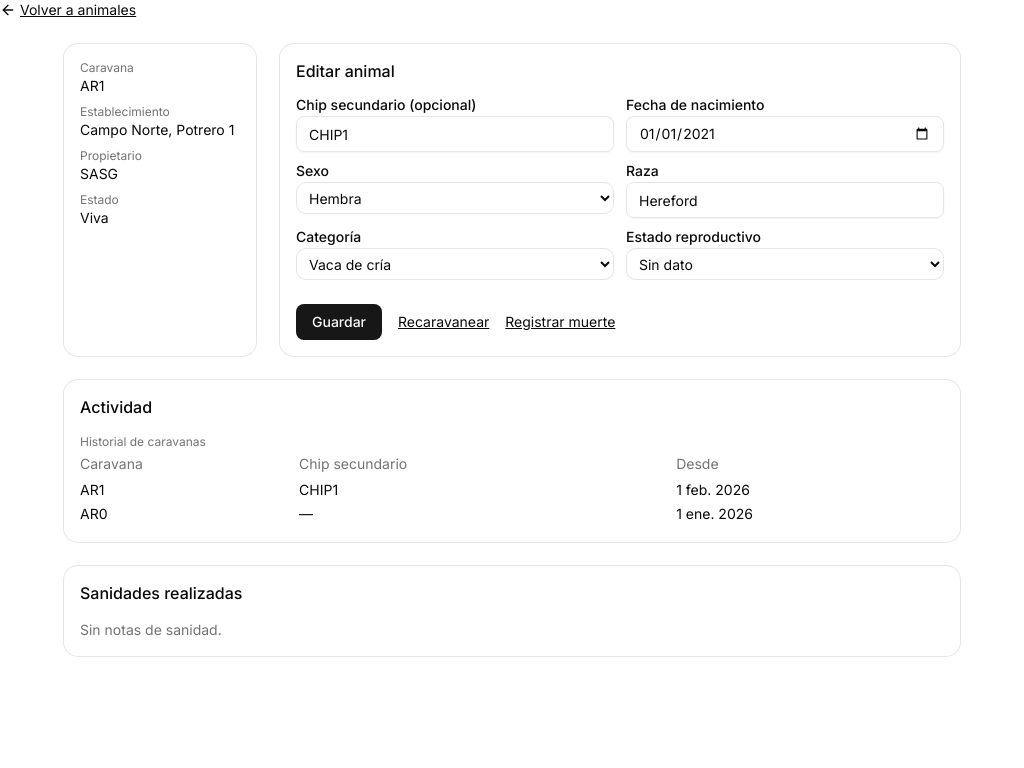
Test case: AnimalDetail › shows the server error when saving fails
What coordinates should you click on to do the following:
click the button "Guardar"
I would click on:
 (339, 322)
Its box is [296, 304, 382, 340].
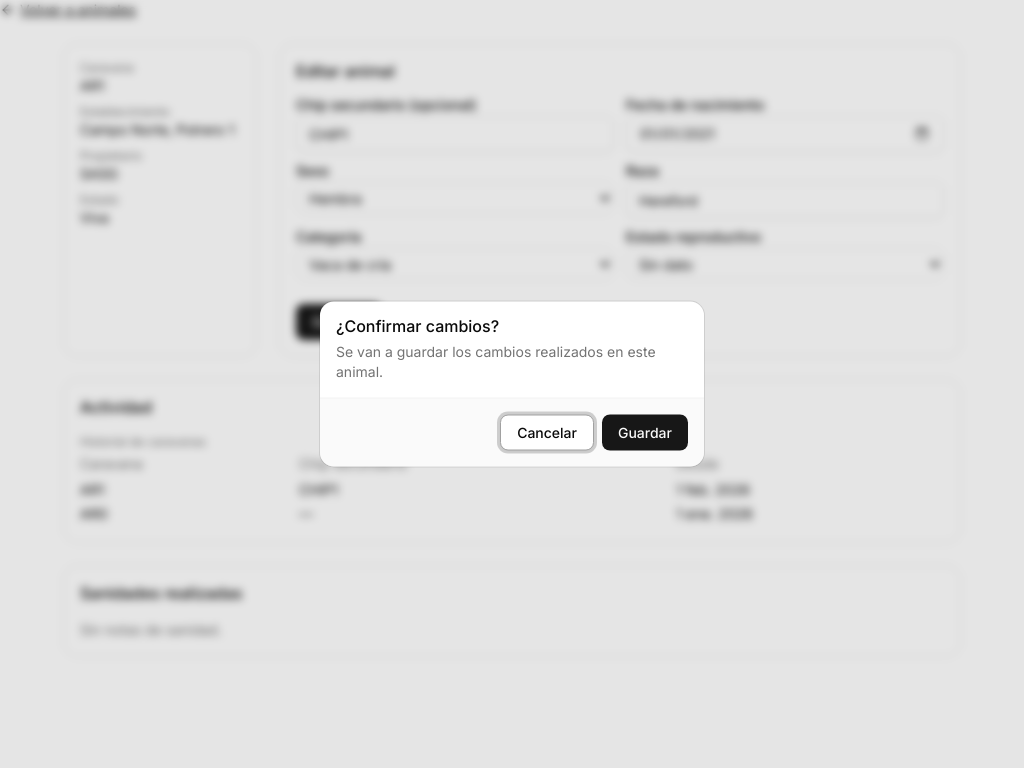
What coordinates should you click on to do the following:
click the button "Guardar"
I would click on:
 (645, 432)
Its box is [602, 414, 688, 450].
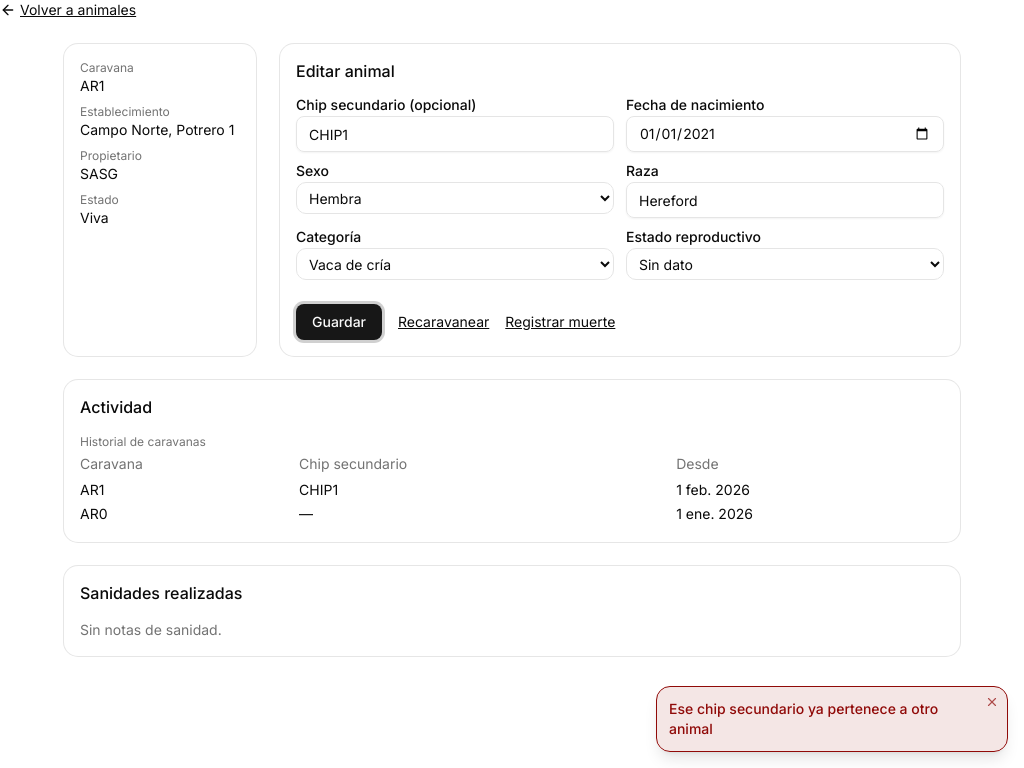
Expected: the heading "Ese chip secundario ya pertenece a otro animal" is shown, [669, 699, 975, 739]
